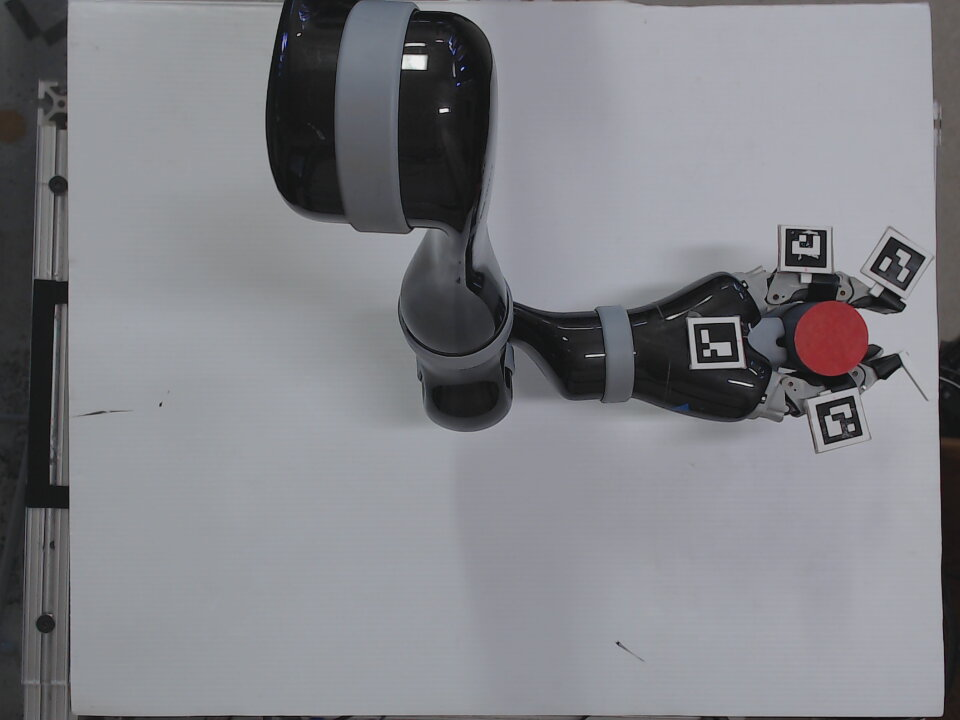cylinder: (779, 299, 873, 380)
